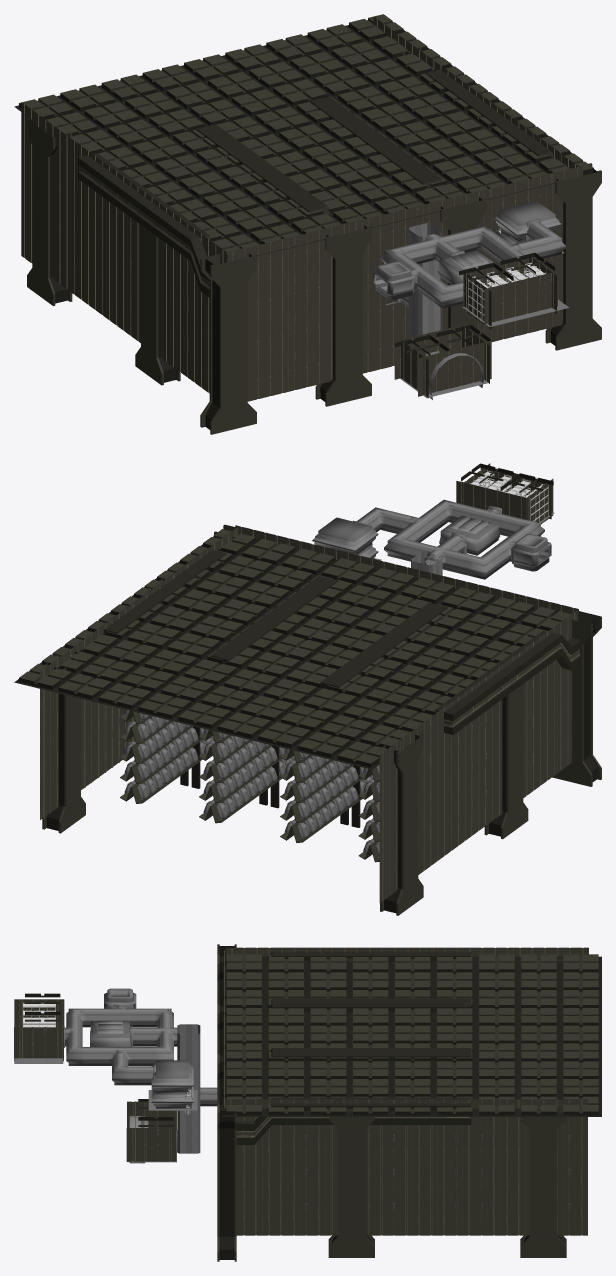
Rendered from Model_Ship_Interior.fbx.
3 renders of one model, top to bottom at view 1: azimuth 30°, elevation 25°; view 2: azimuth 150°, elevation 25°; view 3: azimuth 270°, elevation 25°, orthographic. The views are drawn at different scales.
Parts seen in each view (by area): view 1: Plane.005, Cube.097, Plane.006, Plane.011, Plane.008, Plane.010, Cube.098, Cube.037, Cube.102, Cube.038, Plane.016, Plane.023 (+14 smaller); view 2: Plane.005, Plane.011, Plane.010, Cube.098, Cube.037, Plane.013, Cube.097, Cube.118, Cube.112, Cube.106, Cube.099, Plane.006 (+13 smaller); view 3: Plane.005, Plane.013, Plane.012, Cube.099, Cube.097, Cube.039, Plane.010, Cube.102, Cube.038, Plane.003, Plane.020, Plane.017 (+12 smaller).
Boxes of the visible parts, box(x1,y1,x2,y2) form: Plane.005: box(14, 14, 593, 262); Cube.097: box(200, 163, 601, 434); Plane.006: box(227, 166, 582, 324); Plane.011: box(21, 179, 209, 393); Plane.008: box(247, 293, 398, 401); Plane.010: box(21, 102, 226, 316); Cube.098: box(27, 114, 180, 385); Cube.037: box(78, 153, 210, 297); Cube.102: box(196, 124, 330, 217); Cube.038: box(310, 96, 443, 189); Plane.016: box(484, 271, 557, 327); Plane.023: box(418, 340, 491, 396); Plane.005: box(14, 529, 578, 769); Plane.011: box(379, 688, 571, 902); Plane.010: box(379, 610, 577, 828); Cube.098: box(380, 653, 528, 915); Cube.037: box(434, 630, 581, 734); Plane.013: box(40, 703, 134, 819); Cube.097: box(214, 524, 601, 786); Cube.118: box(297, 752, 358, 838); Cube.112: box(216, 732, 277, 819); Cube.106: box(137, 712, 198, 799); Cube.099: box(42, 571, 174, 833); Plane.006: box(235, 525, 578, 621); Plane.005: box(223, 954, 601, 1116); Plane.013: box(236, 1167, 587, 1235); Plane.012: box(225, 1099, 587, 1167); Cube.099: box(328, 1108, 566, 1257); Cube.097: box(217, 944, 236, 1261); Cube.039: box(236, 1097, 471, 1144); Plane.010: box(225, 947, 588, 956); Cube.102: box(267, 998, 471, 1011); Cube.038: box(267, 1048, 471, 1060); Plane.003: box(151, 1060, 193, 1108); Plane.020: box(126, 1128, 176, 1161); Plane.017: box(14, 1027, 63, 1061).
Bounding box in the file's own units: 104 × 48.27 × 153.
